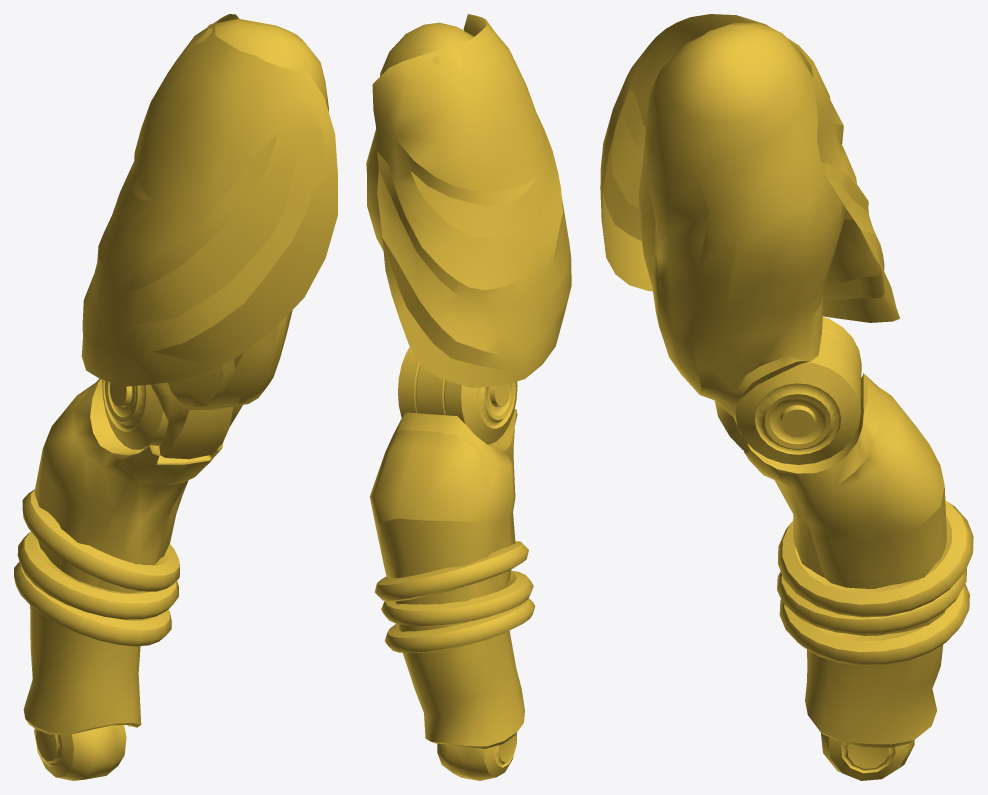
Rendered from legR.fbx.
3 renders of one model, left to right at view 1: azimuth 30°, elevation 25°; view 2: azimuth 150°, elevation 25°; view 3: azimuth 270°, elevation 25°, orthographic. The views are drawn at different scales.
Visible parts, largest first — view 1: matte_0.006, matte_1.005, metalic_1.003, submetalic_1.001, submetalic_0.003; view 2: matte_0.006, matte_1.005, metalic_1.003, submetalic_0.003, submetalic_1.001; view 3: matte_0.006, matte_1.005, metalic_1.003, submetalic_0.003, submetalic_1.001.
Boxes of the visible parts, x1,y1,x2,y2 form: matte_0.006: [81, 14, 337, 459]; matte_1.005: [23, 378, 223, 734]; metalic_1.003: [14, 489, 179, 646]; submetalic_1.001: [34, 725, 126, 780]; submetalic_0.003: [102, 379, 168, 449]; matte_0.006: [366, 14, 571, 387]; matte_1.005: [369, 409, 524, 748]; metalic_1.003: [374, 541, 535, 652]; submetalic_0.003: [398, 347, 517, 444]; submetalic_1.001: [437, 732, 516, 780]; matte_0.006: [600, 14, 899, 449]; matte_1.005: [743, 373, 946, 747]; metalic_1.003: [777, 500, 973, 665]; submetalic_0.003: [735, 317, 861, 464]; submetalic_1.001: [821, 733, 914, 780].
Bounding box in the file's own units: 551 × 771 × 1820.
